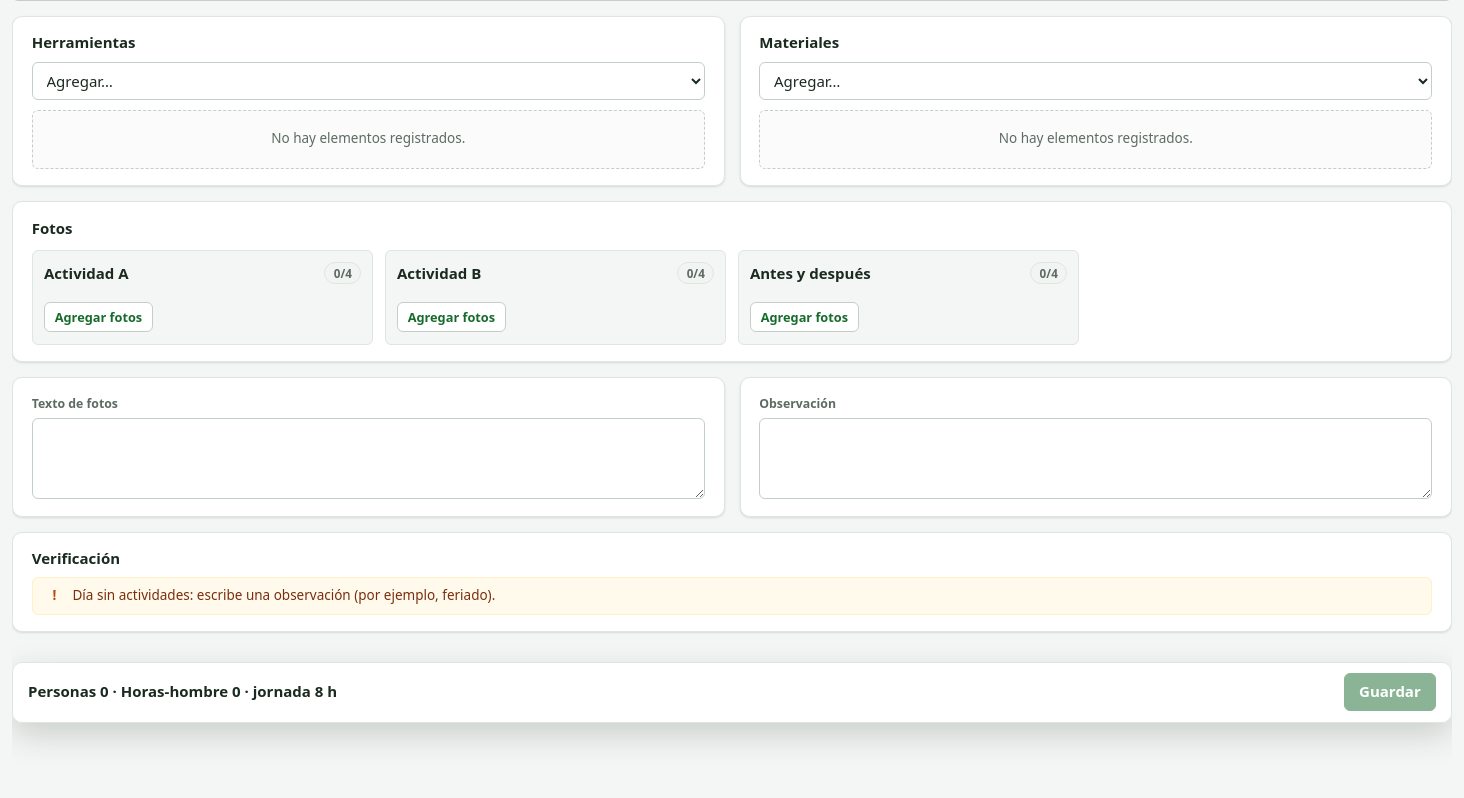
muestra un aviso al guardar el día
(page scrolled)
Type "Feriado sintético" into the text box labelled "Observación" at (1096, 459), box [759,418,1432,499]
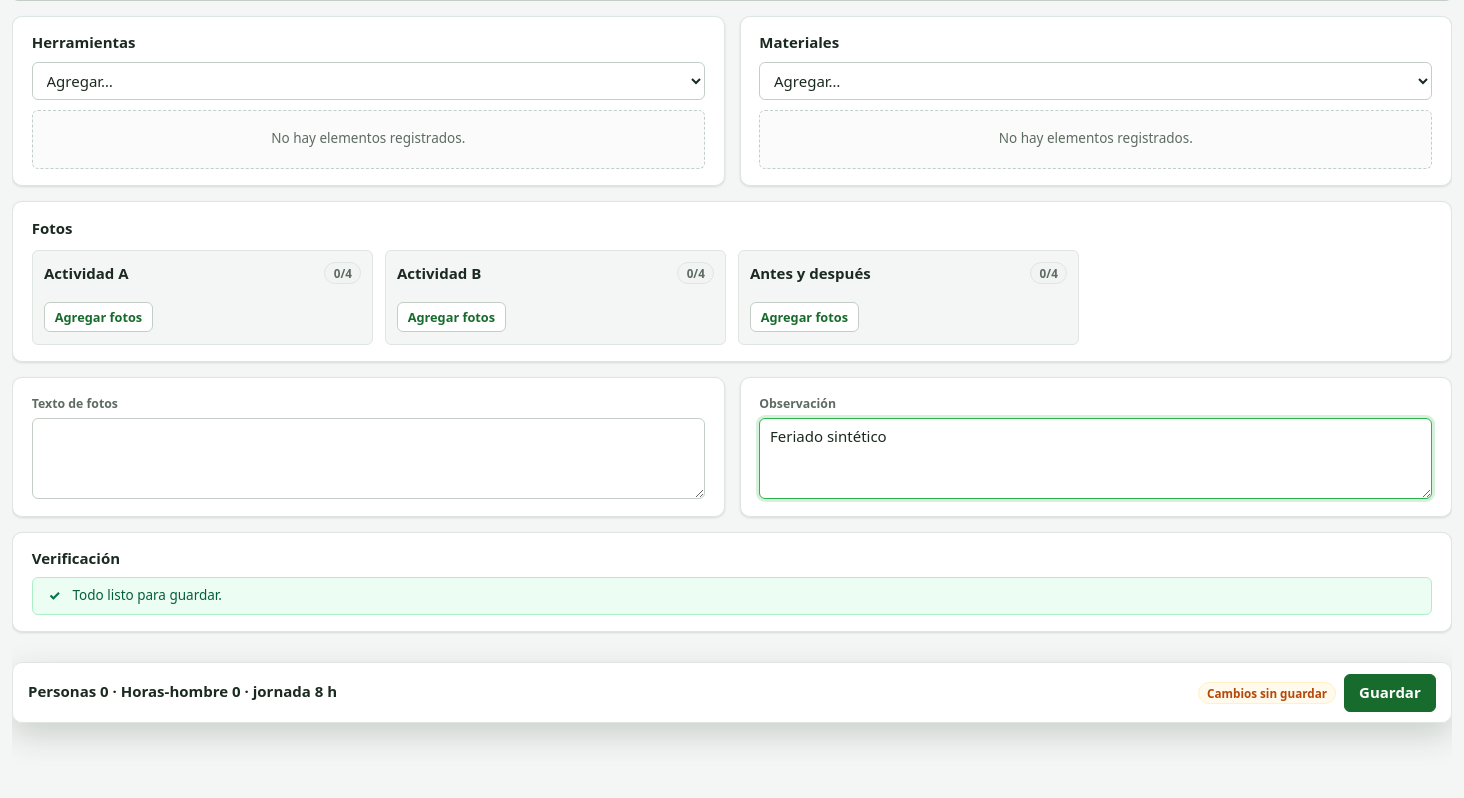
Click the button "Guardar" at (1390, 693), box [1344,674,1436,712]
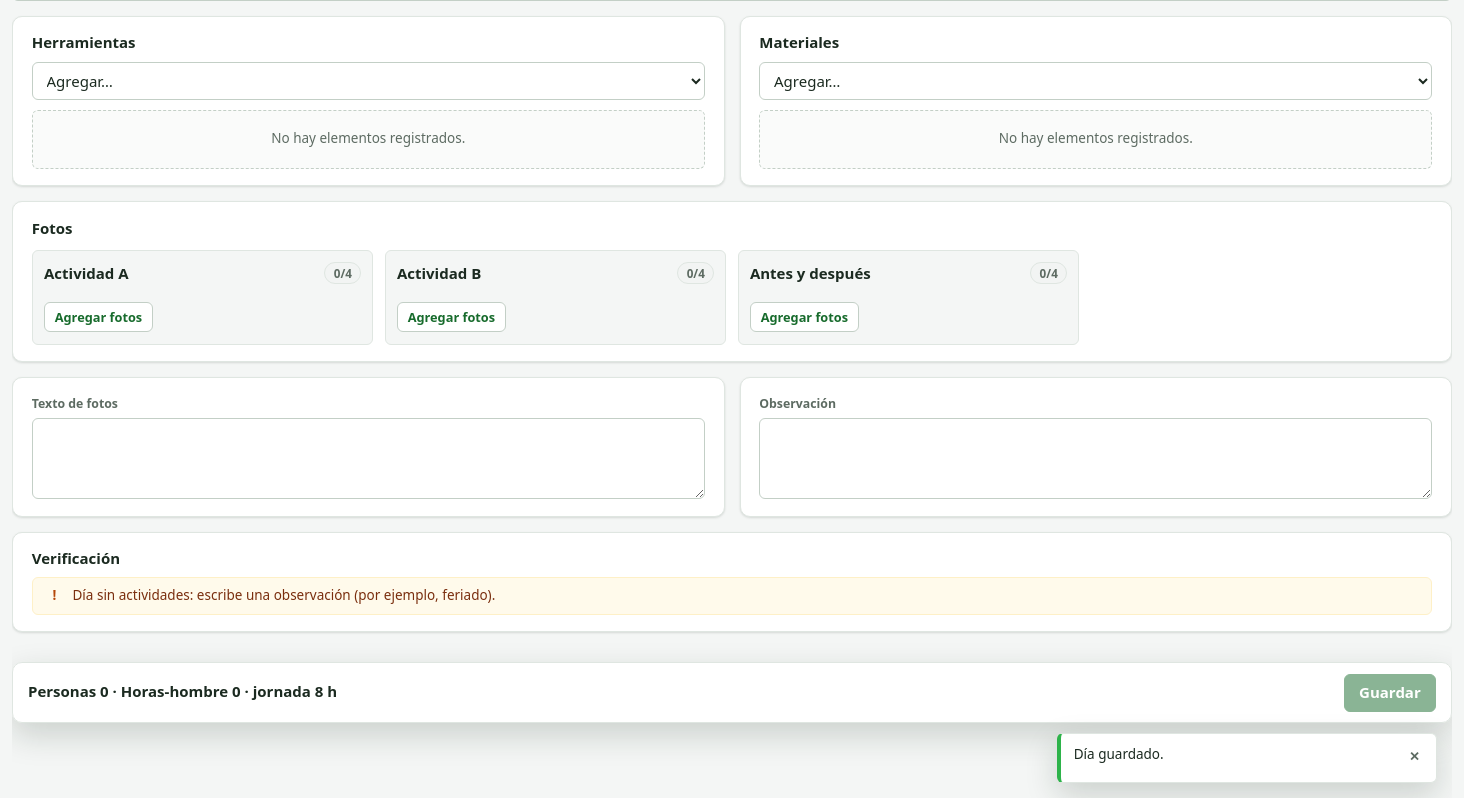
expect the text "Día guardado." is shown: met, box [1074,745,1164,763]
